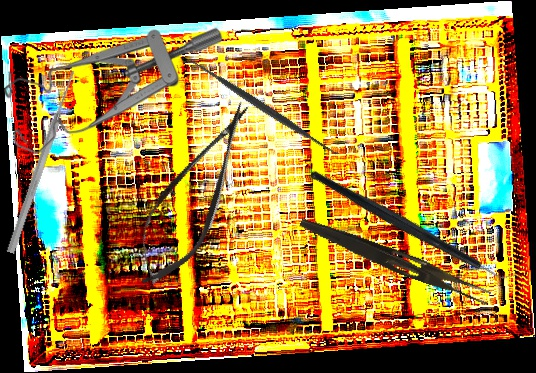Chopper: (309, 113, 522, 337)
Dressing Forceps: (295, 215, 495, 306)
Micro Scissor: (116, 87, 273, 300)
Pusher: (5, 69, 79, 255)
Spatula Surgical: (181, 49, 343, 165)
Speculum: (4, 26, 223, 154)
